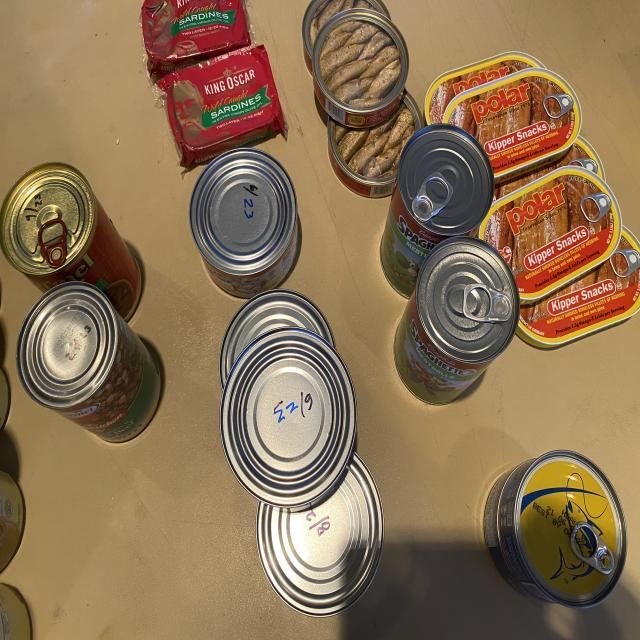Canned Fish: (220, 328, 356, 508), (256, 453, 384, 617), (479, 167, 621, 303), (189, 148, 298, 298), (158, 45, 286, 167), (444, 67, 581, 180), (518, 227, 640, 348), (312, 8, 409, 128), (219, 290, 335, 388), (328, 92, 422, 198), (425, 52, 544, 125), (140, 0, 250, 77), (495, 135, 605, 198), (302, 0, 390, 73)
Canned Food: (0, 163, 141, 320), (394, 237, 520, 405), (380, 125, 494, 297), (16, 282, 121, 410), (0, 470, 24, 572), (0, 583, 31, 640), (0, 368, 10, 432)
